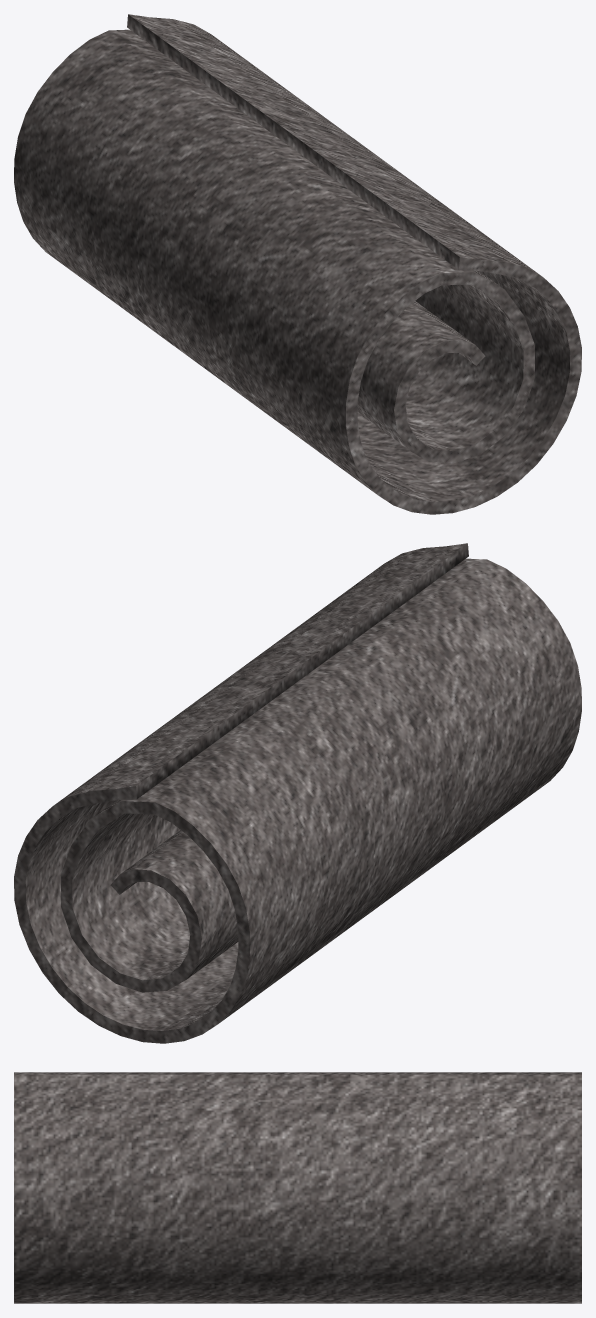
Rendered from Koshma.fbx.
3 renders of one model, top to bottom at view 1: azimuth 30°, elevation 25°; view 2: azimuth 150°, elevation 25°; view 3: azimuth 270°, elevation 25°, orthographic. The views are drawn at different scales.
Parts seen in each view (by area): view 1: Koshma; view 2: Koshma; view 3: Koshma.
Part boxes in pixels (<box>): Koshma: <box>14,14,581,514</box>; Koshma: <box>14,543,581,1043</box>; Koshma: <box>14,1072,581,1303</box>.
Size of the model in its own units: 0.087 by 0.0896 by 0.2118.
